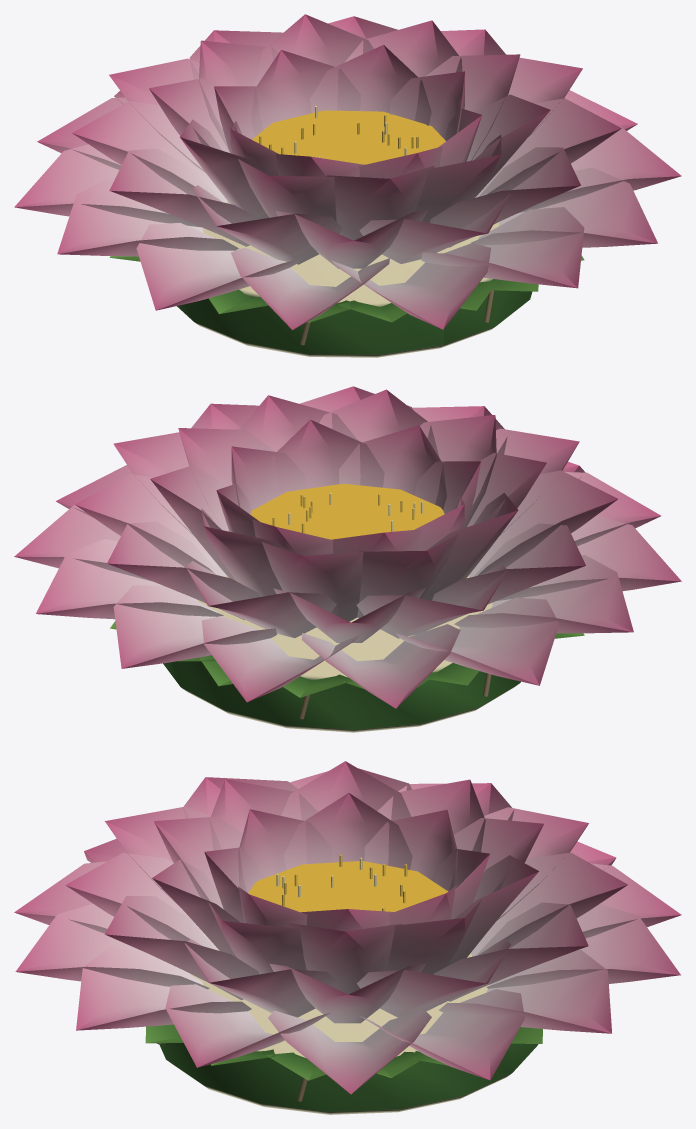
File: lotus.glb
The picture shows the model from 3 angles, top to bottom: view 1: azimuth 30°, elevation 25°; view 2: azimuth 150°, elevation 25°; view 3: azimuth 270°, elevation 25°; orthographic projection. The views are drawn at different scales.
Parts seen in each view (by area): view 1: petals_outer, petals_middle, petals_inner, petals_core, base_trunk, stamen_center, leaf_skirt; view 2: petals_outer, petals_middle, petals_inner, petals_core, base_trunk, stamen_center, leaf_skirt; view 3: petals_outer, petals_middle, petals_inner, petals_core, base_trunk, stamen_center, leaf_skirt.
Boxes of the visible parts, x1,y1,x2,y2 form: petals_outer: [14, 90, 681, 329]; petals_middle: [72, 16, 621, 268]; petals_inner: [149, 14, 550, 240]; petals_core: [214, 45, 481, 178]; base_trunk: [177, 201, 532, 357]; stamen_center: [252, 106, 445, 164]; leaf_skirt: [109, 256, 584, 322]; petals_outer: [14, 461, 681, 708]; petals_middle: [75, 386, 617, 642]; petals_inner: [150, 389, 546, 627]; petals_core: [216, 419, 480, 555]; base_trunk: [163, 575, 520, 732]; stamen_center: [250, 484, 444, 539]; leaf_skirt: [110, 621, 584, 697]; petals_outer: [14, 838, 681, 1094]; petals_middle: [65, 768, 627, 1023]; petals_inner: [152, 761, 543, 994]; petals_core: [204, 793, 489, 931]; base_trunk: [159, 953, 538, 1114]; stamen_center: [248, 854, 447, 912]; leaf_skirt: [145, 1024, 542, 1080].
Size of the model in its own units: 0.951 by 0.2922 by 0.9281.
